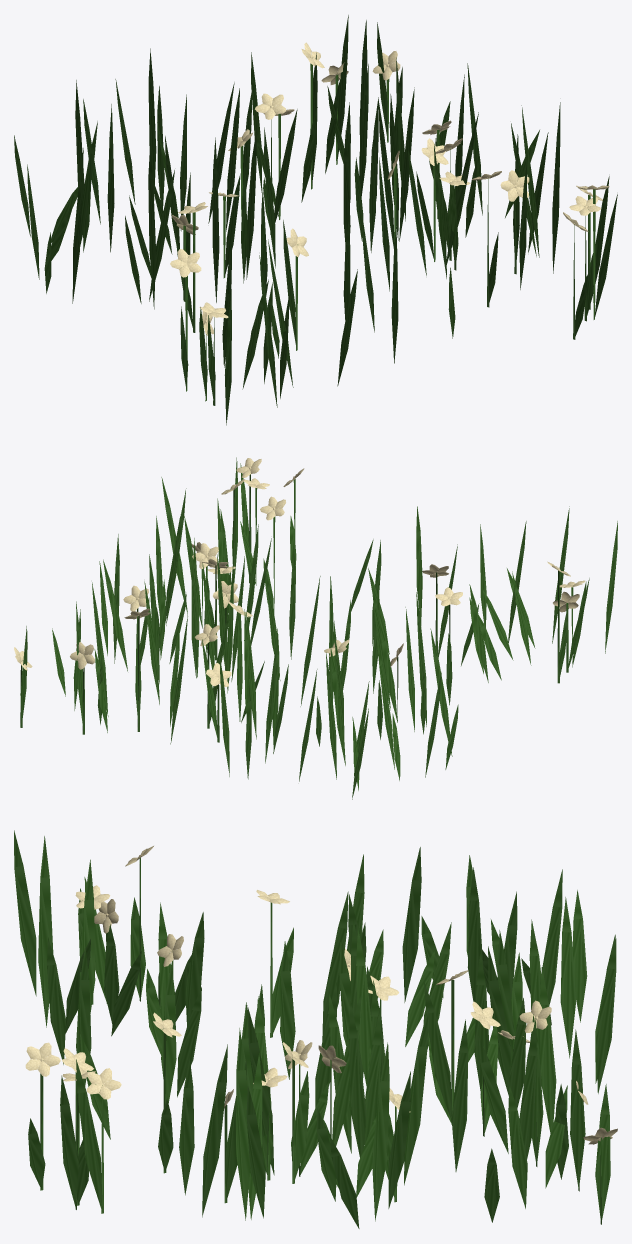
File: meadow_flowers.glb
3 renders of one model, top to bottom at view 1: azimuth 30°, elevation 25°; view 2: azimuth 150°, elevation 25°; view 3: azimuth 270°, elevation 25°, orthographic. The views are drawn at different scales.
Parts seen in each view (by area): view 1: meadow_flowers_Foliage; view 2: meadow_flowers_Foliage; view 3: meadow_flowers_Foliage.
Boxes of the visible parts, x1=… form: meadow_flowers_Foliage: x1=14, y1=15, x2=617, y2=425; meadow_flowers_Foliage: x1=14, y1=457, x2=617, y2=799; meadow_flowers_Foliage: x1=14, y1=830, x2=617, y2=1228.
Size of the model in its own units: 1.14 by 0.3941 by 1.17.
1 material, 1 textured.
